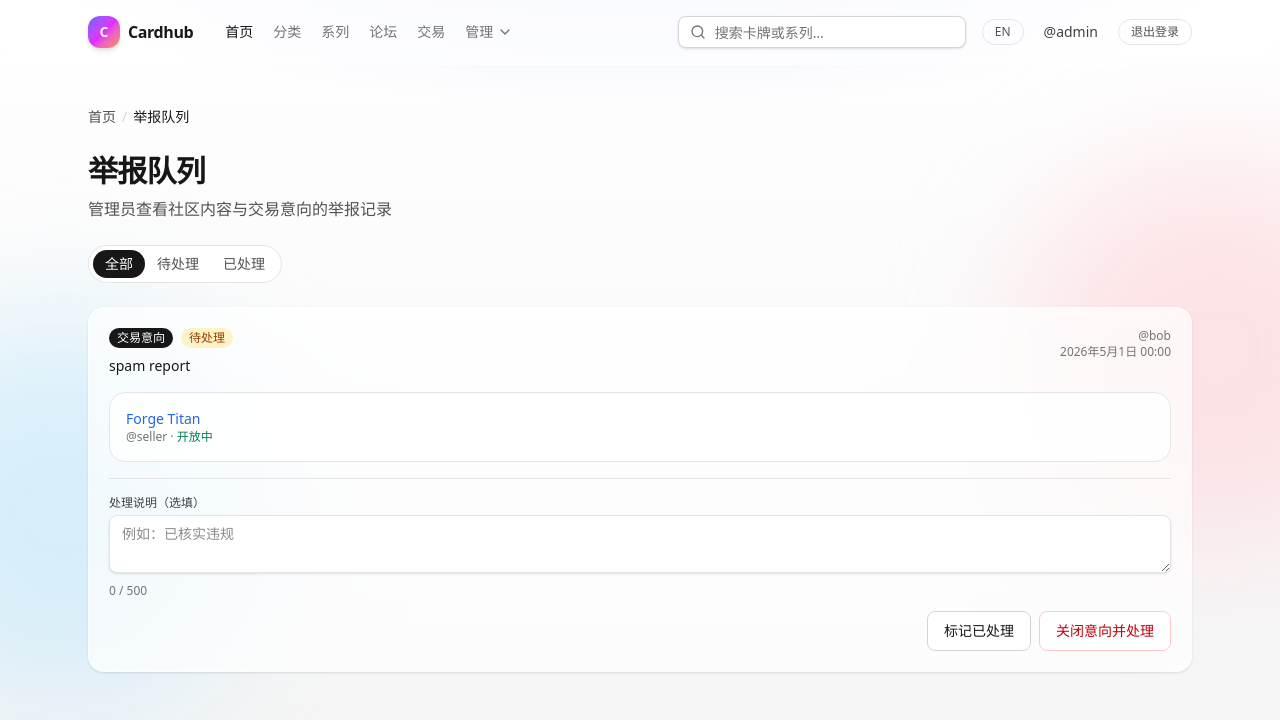
Test: ReportsListPage resolution controls › uses close copy for listing reports
Expected: the text "开放中" is shown, [177,428,213,445]
Click the button "关闭意向并处理": [1105, 631] box [1039,611,1171,651]
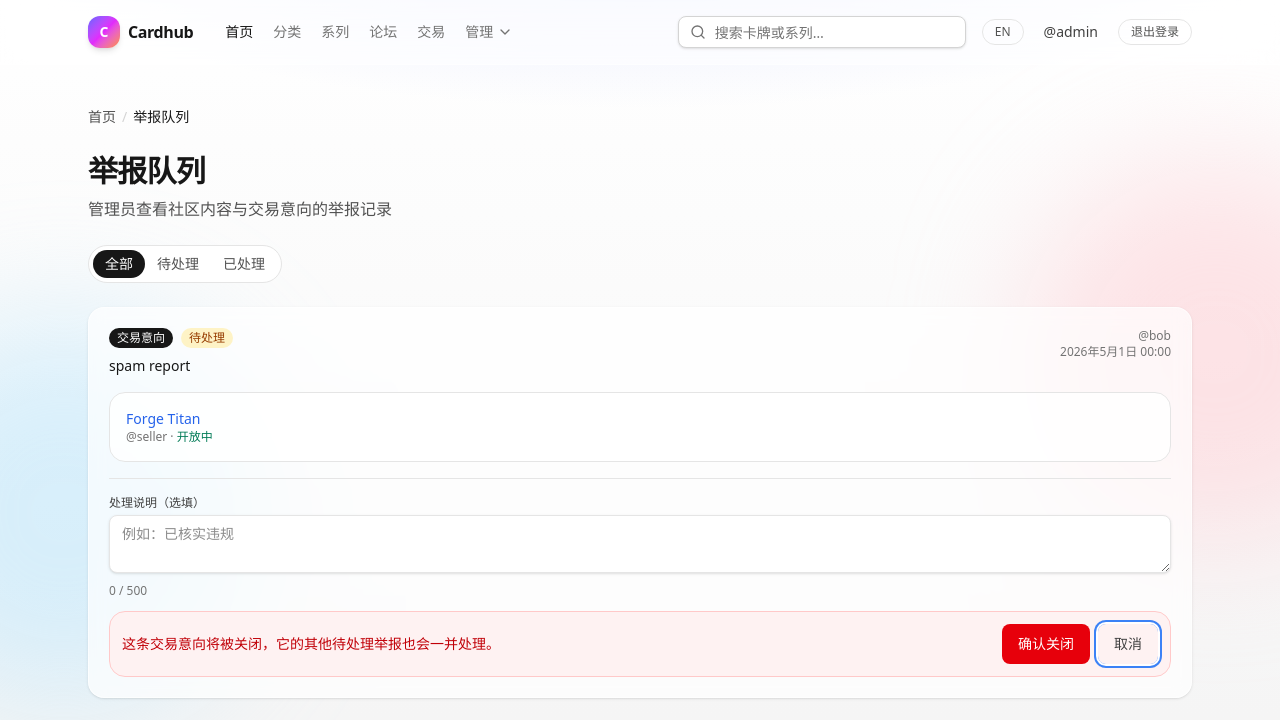
Result: the dialog shows "这条交易意向将被关闭" at [122,634,500,653]
